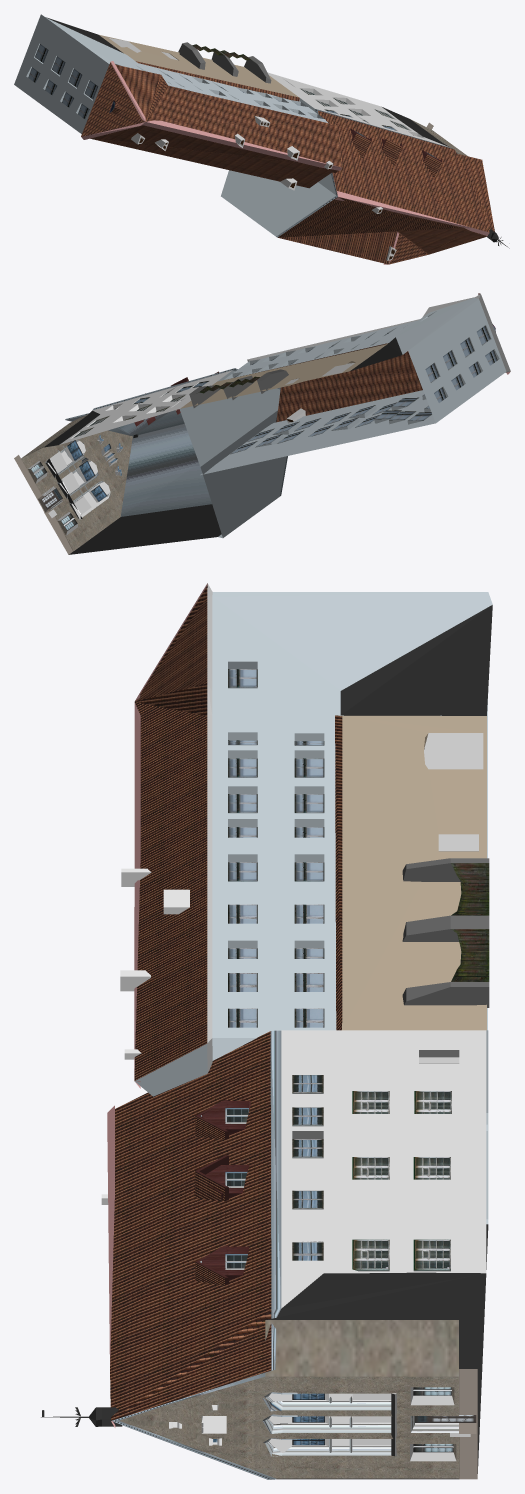
File: Lai-27-origo.obj
3 renders of one model, top to bottom at view 1: azimuth 30°, elevation 25°; view 2: azimuth 150°, elevation 25°; view 3: azimuth 270°, elevation 25°, orthographic. The views are drawn at different scales.
Visible parts, largest first — view 1: Lai_27; view 2: Lai_27; view 3: Lai_27.
Part boxes in pixels (x1,y1,x2,y2): Lai_27: [14, 14, 509, 264]; Lai_27: [14, 293, 510, 554]; Lai_27: [41, 583, 492, 1479].
Bounding box in the file's own units: 51.19 × 33.5 × 24.48.
